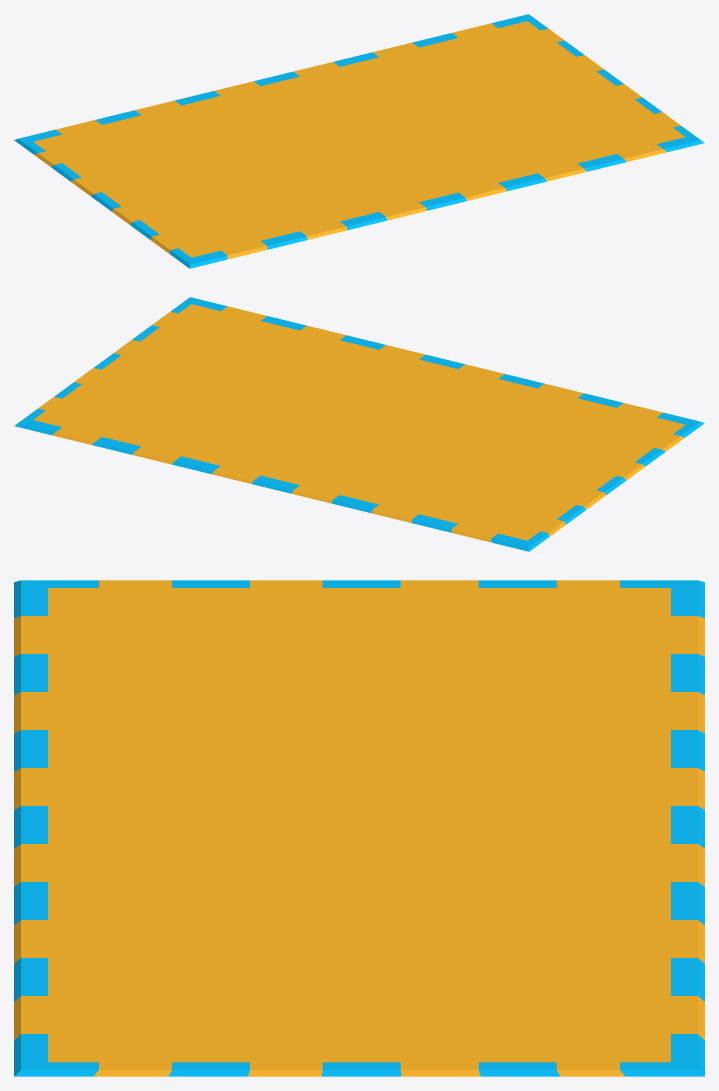
The model's file is ground_track01.FBX.
3 views of the same model, one above another, from view 1: azimuth 30°, elevation 25°; view 2: azimuth 150°, elevation 25°; view 3: azimuth 270°, elevation 25° (orthographic). The views are drawn at different scales.
Visible parts, largest first — view 1: ground_track01; view 2: ground_track01; view 3: ground_track01.
Boxes of the visible parts, x1=… form: ground_track01: x1=14, y1=14, x2=704, y2=268; ground_track01: x1=14, y1=297, x2=704, y2=551; ground_track01: x1=14, y1=580, x2=704, y2=1076.
Size of the model in its own units: 12.01 by 0.05 by 7.09.
1 material, 1 textured.
